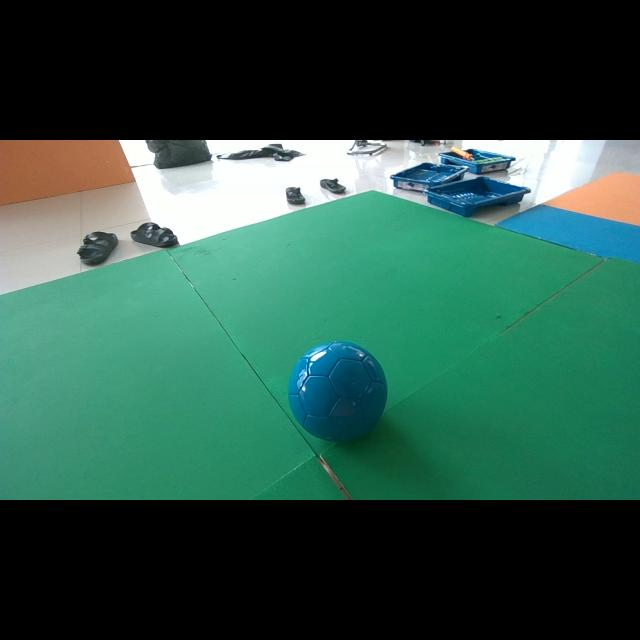B: (288, 341, 388, 442)
